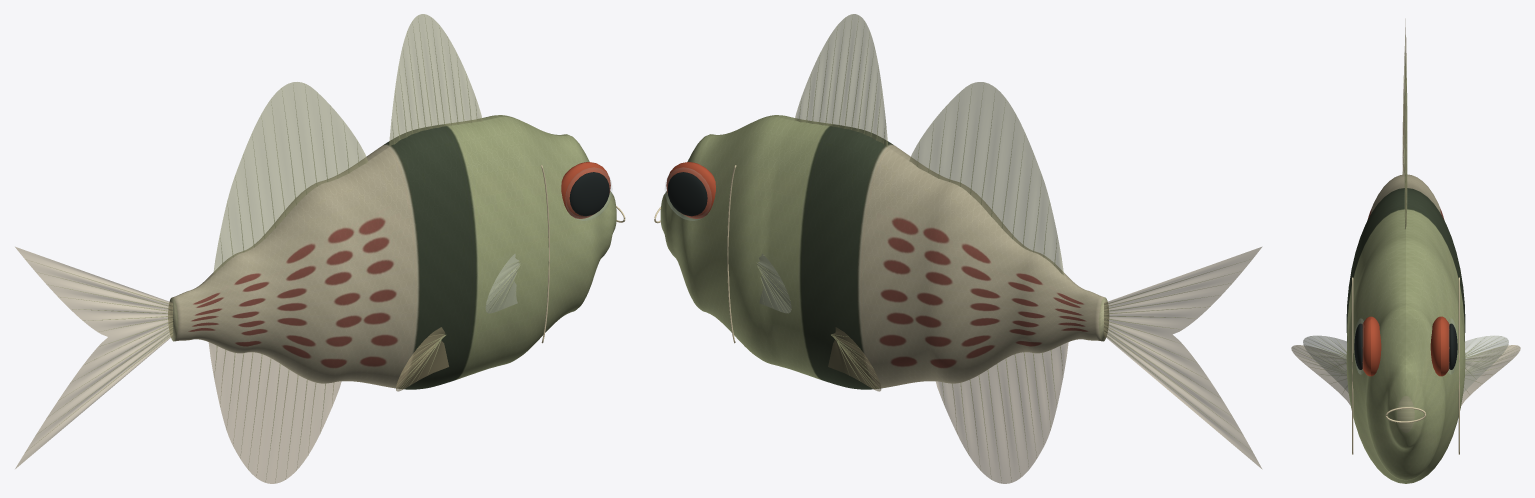
Rendered from pajama-desktop.glb.
3 renders of one model, left to right at view 1: azimuth 30°, elevation 25°; view 2: azimuth 150°, elevation 25°; view 3: azimuth 270°, elevation 25°, orthographic.
Visible parts, largest first — view 1: skin, dorsal, anal, tail, dorsal-ray, pelvic-left, eye-pupil--1, pectoral-left, eye-iris--1; view 2: skin, dorsal, tail, anal, dorsal-ray, pelvic-left, eye-pupil--1, pectoral-left, eye-iris--1; view 3: skin, pectoral-left, pelvic-left, eye-iris--1, dorsal-ray, operculum, eye-pupil--1, dorsal, tail.
Boxes of the visible parts, bbox=[...] form: skin: bbox=[168, 115, 616, 389]; dorsal: bbox=[213, 14, 482, 274]; anal: bbox=[208, 342, 341, 483]; tail: bbox=[15, 247, 172, 468]; dorsal-ray: bbox=[27, 15, 520, 482]; pelvic-left: bbox=[396, 327, 448, 391]; eye-pupil--1: bbox=[569, 172, 609, 216]; pectoral-left: bbox=[485, 254, 520, 313]; eye-iris--1: bbox=[561, 162, 610, 218]; skin: bbox=[660, 115, 1108, 389]; dorsal: bbox=[794, 14, 1063, 274]; tail: bbox=[1104, 247, 1261, 468]; anal: bbox=[936, 342, 1068, 483]; dorsal-ray: bbox=[756, 15, 1250, 481]; pelvic-left: bbox=[828, 327, 881, 391]; eye-pupil--1: bbox=[667, 172, 707, 216]; pectoral-left: bbox=[757, 253, 791, 313]; eye-iris--1: bbox=[666, 162, 715, 218]; skin: bbox=[1346, 174, 1465, 483]; pectoral-left: bbox=[1303, 335, 1508, 392]; pelvic-left: bbox=[1291, 345, 1520, 405]; eye-iris--1: bbox=[1362, 316, 1449, 376]; dorsal-ray: bbox=[1292, 35, 1519, 391]; operculum: bbox=[1352, 277, 1459, 454]; eye-pupil--1: bbox=[1354, 323, 1457, 369]; dorsal: bbox=[1404, 59, 1407, 229]; tail: bbox=[1402, 19, 1406, 174].
Size of the model in its own units: 0.5912 by 0.4079 by 0.1969.
11 materials, 1 textured.
